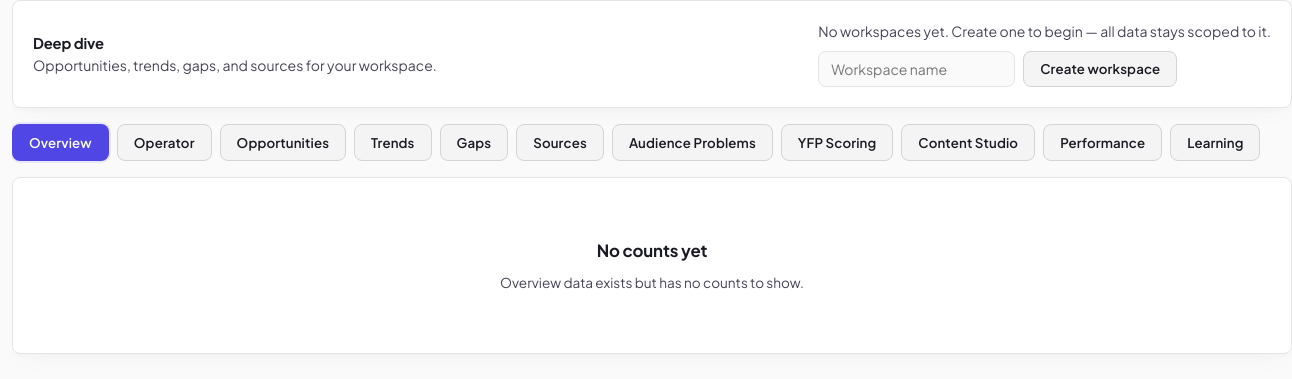
BrainPage opportunity triage › renders Review/Dismiss buttons and status filter defaulting to NEW
The width and height of the screenshot is (1292, 379).
Click the tab "Opportunities" at (283, 143), box [220,124,346,161]
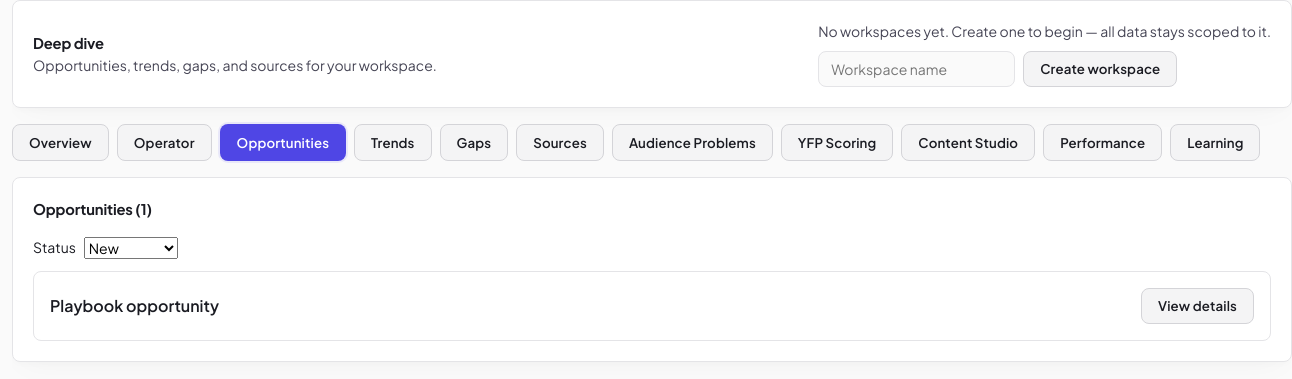
Expected: the dropdown named "Filter by status" shows "New", [84,237,178,259]
Expected: the text "Playbook opportunity" is shown, [50,294,219,318]
